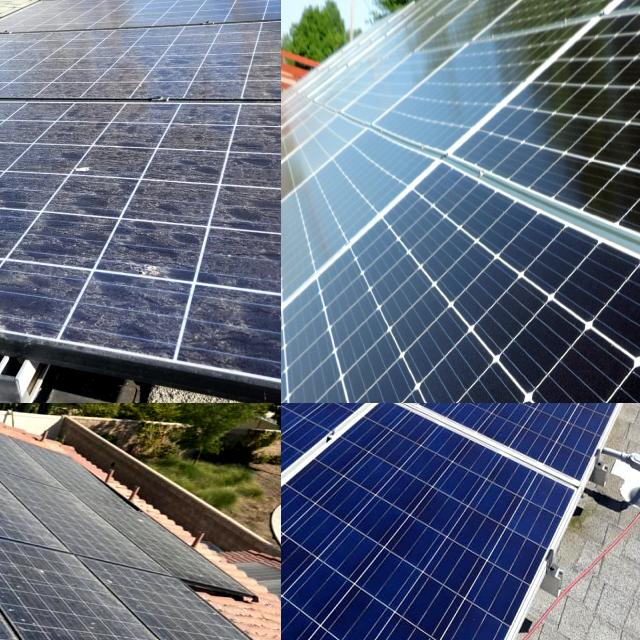bird: (0, 556, 49, 614), (0, 500, 34, 565), (0, 595, 34, 640), (14, 620, 90, 640), (0, 487, 22, 539), (122, 508, 148, 538), (0, 506, 16, 549), (0, 565, 17, 592), (0, 626, 24, 640)
crack: (281, 403, 525, 471), (333, 314, 493, 403), (373, 472, 462, 584), (586, 51, 640, 218), (281, 497, 368, 580), (316, 465, 399, 548), (435, 403, 576, 446), (489, 403, 614, 448), (434, 164, 492, 252), (281, 541, 339, 609), (380, 403, 483, 439), (331, 403, 421, 439), (281, 431, 319, 511), (578, 403, 640, 440), (281, 403, 330, 441)
dust: (112, 231, 281, 343), (115, 109, 281, 213), (115, 18, 281, 95), (0, 205, 91, 310), (0, 113, 83, 197), (0, 116, 60, 220), (0, 46, 86, 95), (86, 0, 268, 21), (0, 243, 55, 287)
